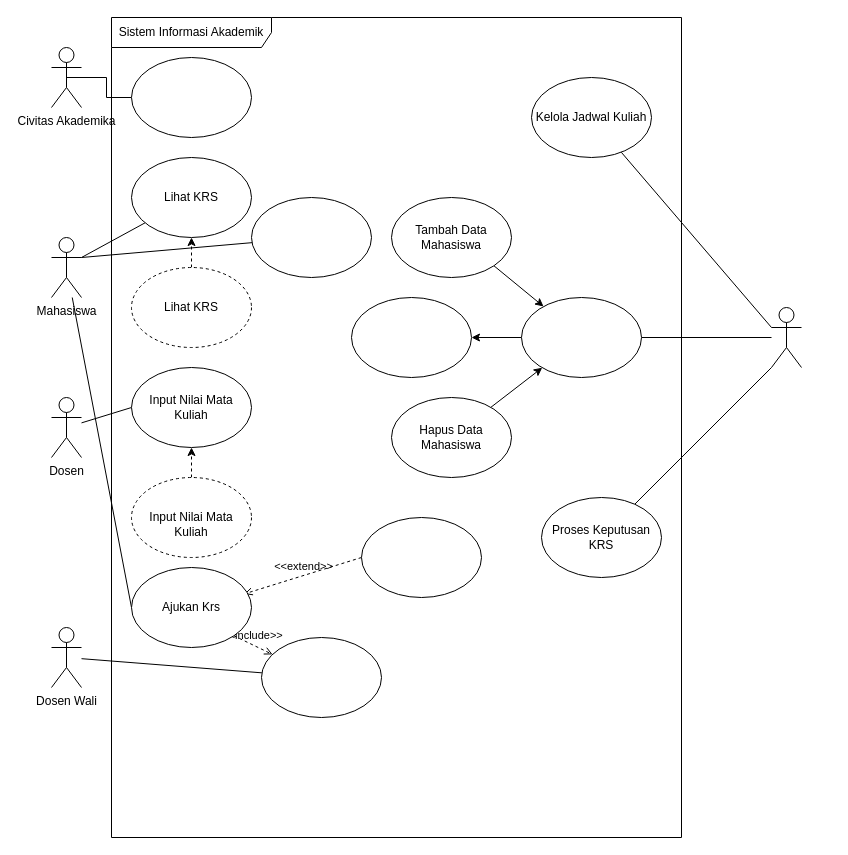
Some shapes in this 848 by 855 pixel diagram are drawn without their labels. Each missing label, with the centre of its shape:
"Admin Akademik" belongs at (786,337).
"Kelola Data Mahasiswa" belongs at (581,337).
"Lihat Jadwal Kuliah" belongs at (311,237).
"Lihat Kalender Akademik" belongs at (191,97).
"Ubah Data Mahasiswa" belongs at (411,337).
"Unduh Bukti Pengajuan KRS" belongs at (421,557).
"Validasi KRS" belongs at (321,677).
